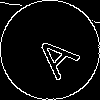A: (25, 25, 82, 81)
